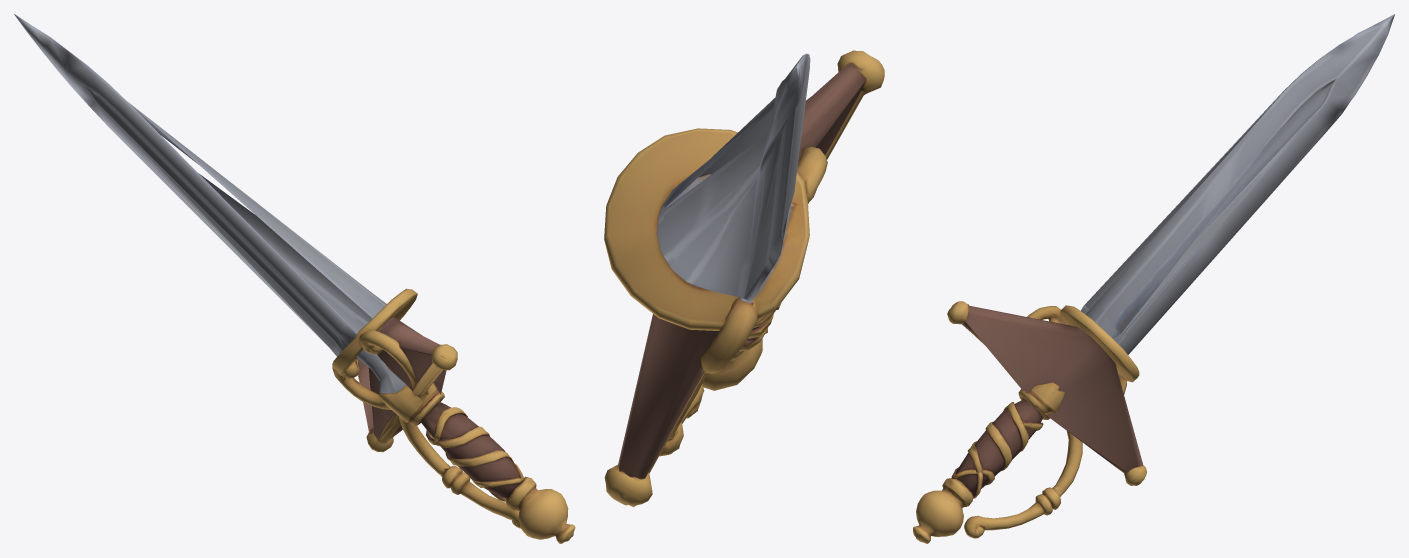
File: duelist_rapier_tripo.glb
3 views of the same model, side by side, from view 1: azimuth 30°, elevation 25°; view 2: azimuth 150°, elevation 25°; view 3: azimuth 270°, elevation 25° (orthographic). The views are drawn at different scales.
Parts seen in each view (by area): view 1: tripo_node_cdaac385-8a38-4ada-a981-79b665c1dfd3; view 2: tripo_node_cdaac385-8a38-4ada-a981-79b665c1dfd3; view 3: tripo_node_cdaac385-8a38-4ada-a981-79b665c1dfd3.
Boxes of the visible parts, box(x1,y1,x2,y2) form: tripo_node_cdaac385-8a38-4ada-a981-79b665c1dfd3: box(14, 14, 575, 543); tripo_node_cdaac385-8a38-4ada-a981-79b665c1dfd3: box(604, 50, 884, 506); tripo_node_cdaac385-8a38-4ada-a981-79b665c1dfd3: box(913, 14, 1394, 543).
Bounding box in the file's own units: 0.6934 × 0.9004 × 0.998.
1 material, 1 textured.
